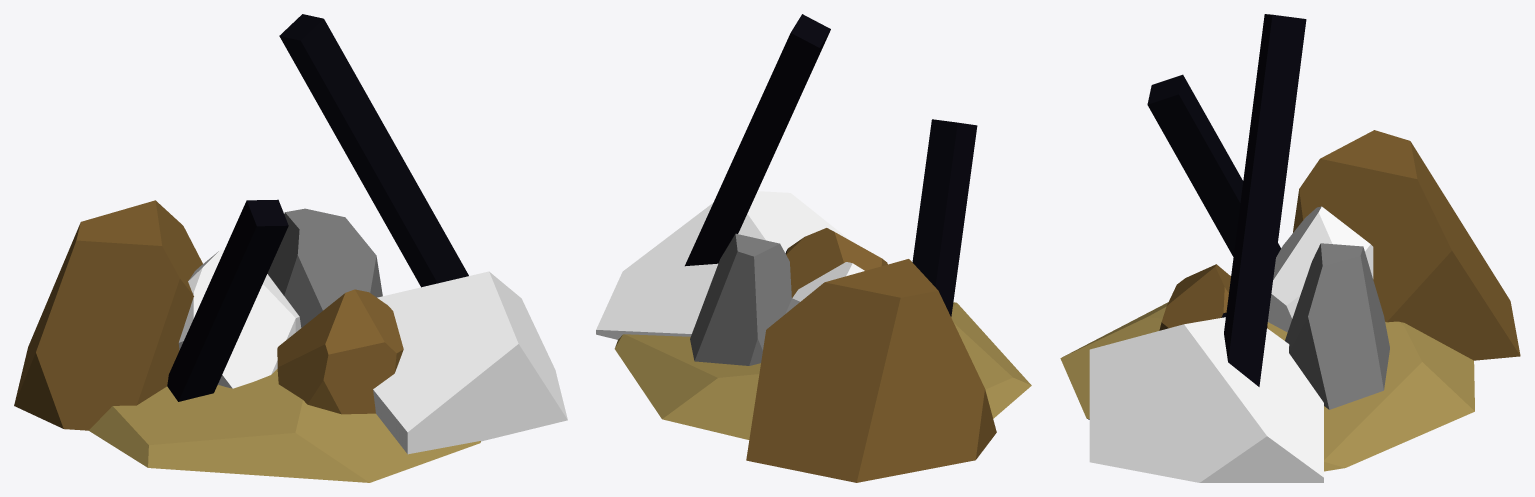
File: ScrapPile.fbx
The picture shows the model from 3 angles, left to right: view 1: azimuth 30°, elevation 25°; view 2: azimuth 150°, elevation 25°; view 3: azimuth 270°, elevation 25°; orthographic projection. The views are drawn at different scales.
Parts seen in each view (by area): view 1: Cube.004; view 2: Cube.004; view 3: Cube.004.
Part boxes in pixels (bbox=[...]): Cube.004: bbox=[14, 14, 567, 482]; Cube.004: bbox=[596, 14, 1031, 482]; Cube.004: bbox=[1060, 14, 1520, 482].
Bounding box in the file's own units: 437 × 351 × 393.
